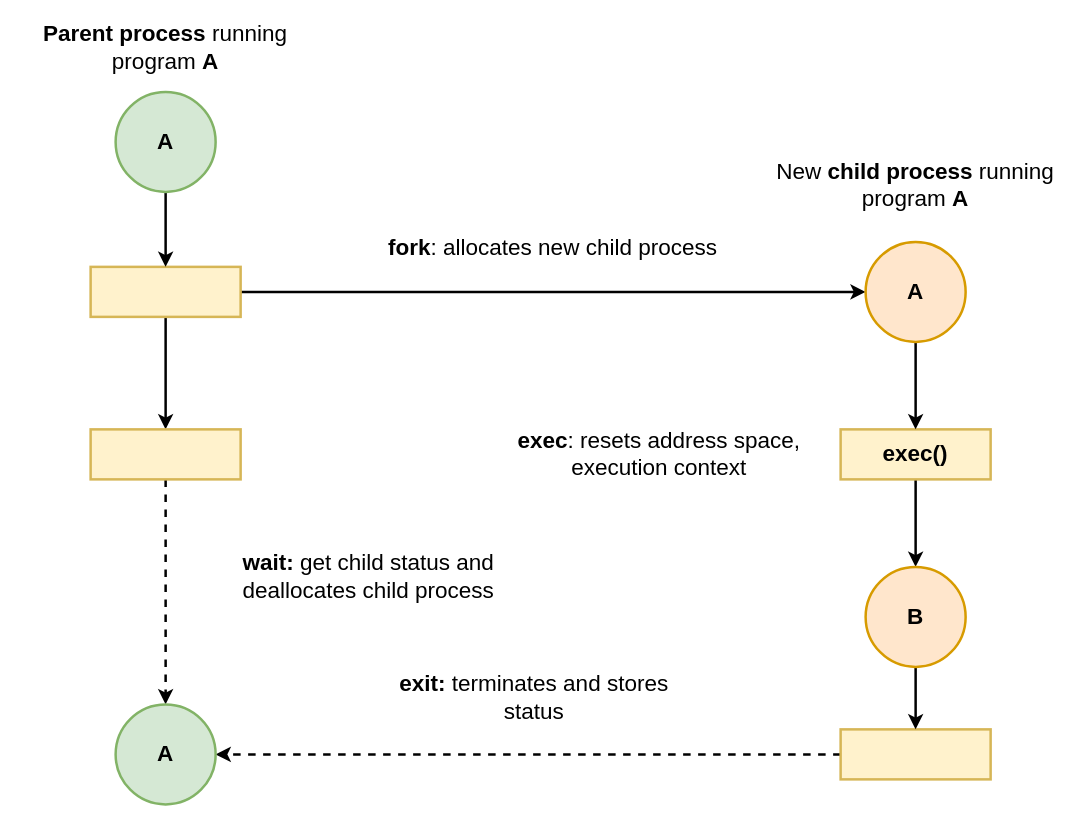
This 1080x828 diagram has some shape labels left out. Each missing label, with the box of its shape:
exit(): (839, 728, 991, 780)
fork(): (89, 265, 241, 318)
wait(): (89, 428, 241, 480)
